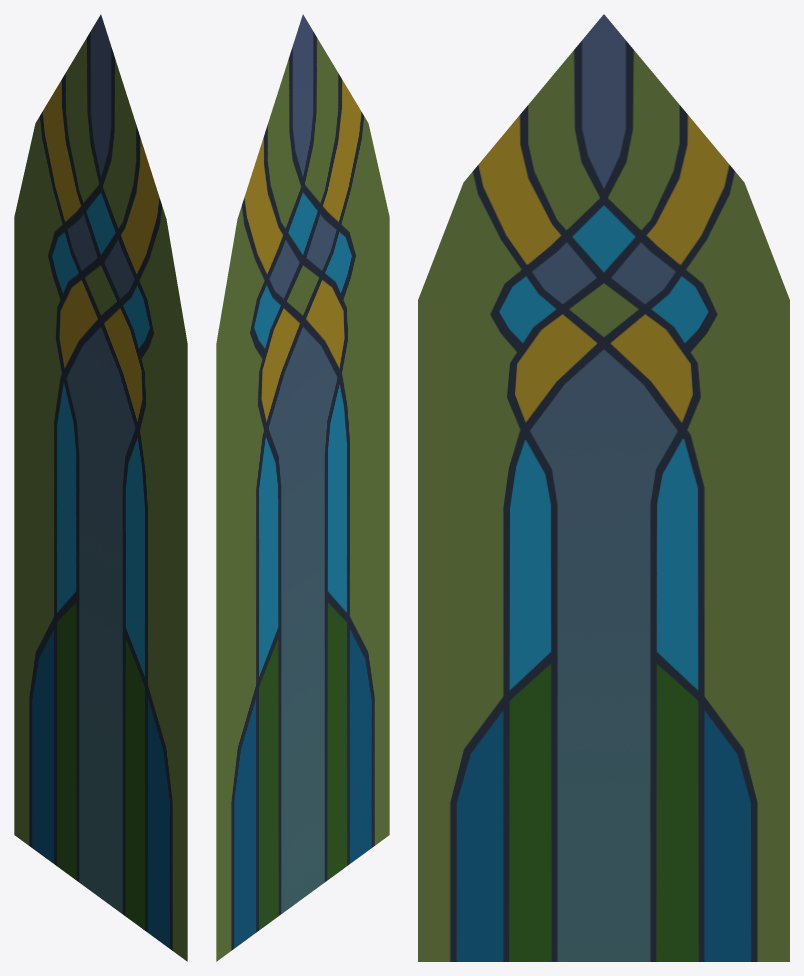
Rendered from SM_Bld_Window_Tall_02_Glass.fbx.
The picture shows the model from 3 angles, left to right: view 1: azimuth 30°, elevation 25°; view 2: azimuth 150°, elevation 25°; view 3: azimuth 270°, elevation 25°; orthographic projection. The views are drawn at different scales.
Visible parts, largest first — view 1: SM_Bld_Window_Tall_02_Glass; view 2: SM_Bld_Window_Tall_02_Glass; view 3: SM_Bld_Window_Tall_02_Glass.
Boxes of the visible parts, bbox=[...] form: SM_Bld_Window_Tall_02_Glass: bbox=[14, 14, 187, 961]; SM_Bld_Window_Tall_02_Glass: bbox=[216, 14, 389, 961]; SM_Bld_Window_Tall_02_Glass: bbox=[418, 14, 789, 961].
Size of the model in its own units: 6.59e-06 by 163 by 460.
1 material, 1 textured.
